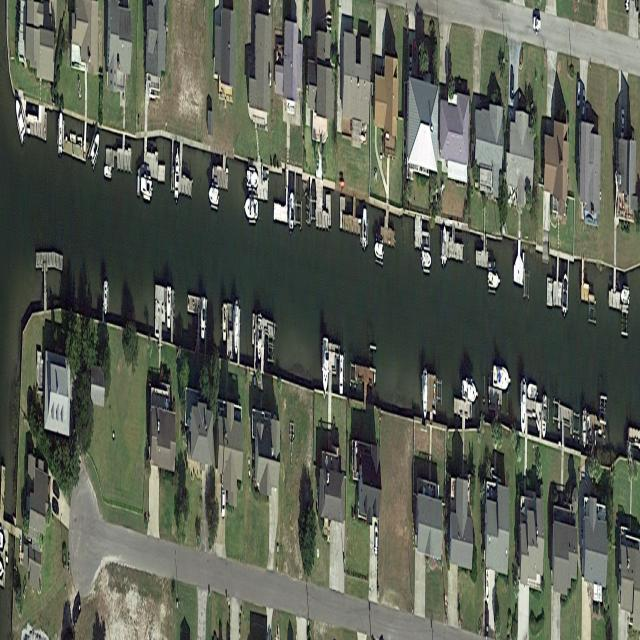ship: (493, 364, 511, 395), (15, 95, 26, 142), (462, 376, 478, 406), (90, 127, 101, 169), (322, 335, 329, 394), (244, 197, 259, 221), (541, 392, 548, 443), (174, 147, 180, 201), (488, 268, 500, 293), (200, 295, 206, 342), (521, 380, 526, 436), (140, 178, 153, 199), (562, 272, 568, 317), (234, 303, 239, 355), (423, 369, 428, 419), (58, 111, 63, 159), (247, 169, 258, 190), (442, 223, 447, 269), (257, 318, 262, 363), (339, 353, 344, 398), (166, 286, 171, 329), (527, 381, 537, 402), (209, 185, 219, 205), (289, 192, 294, 232), (374, 241, 384, 260), (363, 207, 367, 252), (583, 410, 587, 451), (422, 251, 431, 269), (223, 302, 227, 342), (621, 287, 629, 307), (104, 282, 108, 316), (486, 570, 490, 604), (104, 163, 112, 180), (77, 134, 83, 149), (78, 78, 82, 99), (70, 131, 76, 145)
small-vehicle: (73, 599, 82, 628), (581, 87, 586, 118), (52, 480, 60, 499), (221, 483, 225, 520), (533, 16, 541, 34), (485, 607, 489, 639), (52, 499, 59, 517), (374, 526, 378, 556), (510, 73, 514, 102), (621, 108, 624, 140), (577, 77, 580, 108), (413, 40, 416, 66)
